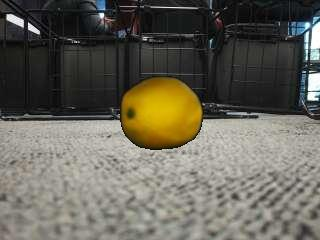lemon: (121, 79, 201, 151)
